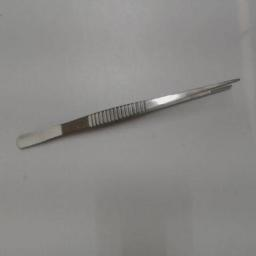DeBakey Dissector: (14, 72, 246, 150)
